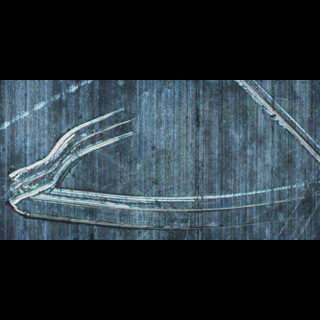d: (2, 101, 311, 231), (227, 80, 320, 165), (0, 80, 96, 139)
